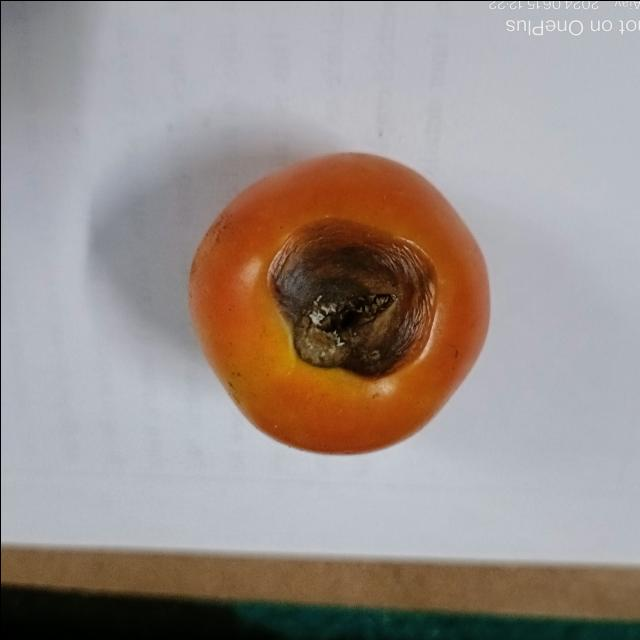Anthrocnose: (270, 220, 436, 383)
